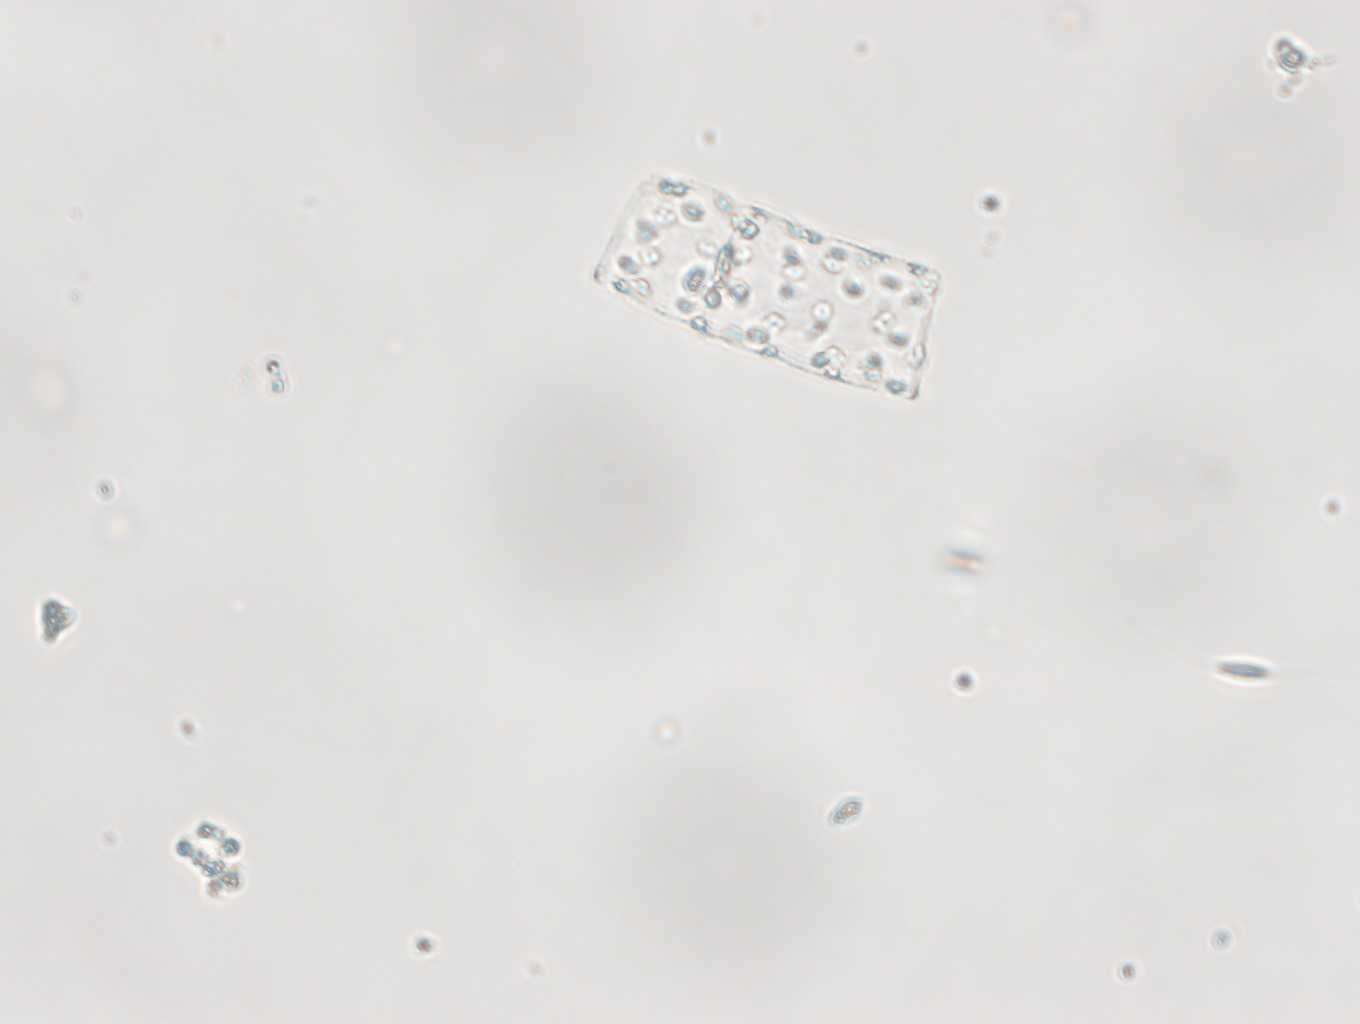guinardia flaccida: (593, 173, 941, 400)
